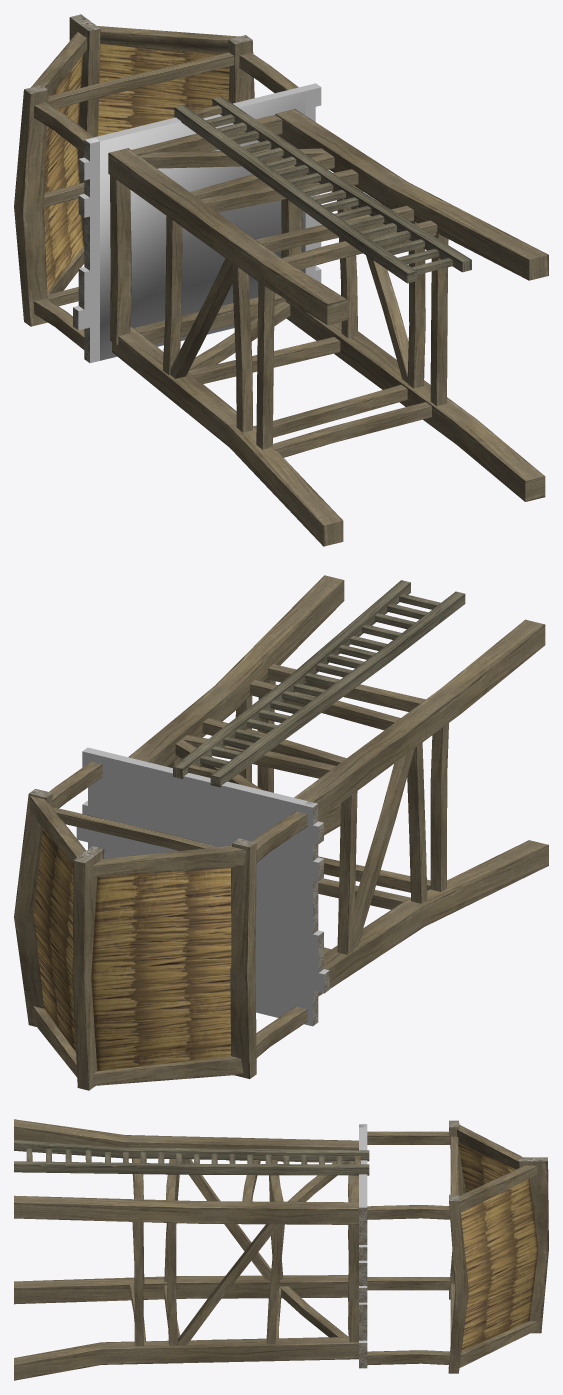
The model's file is Watch_Tower_A.fbx.
3 views of the same model, one above another, from view 1: azimuth 30°, elevation 25°; view 2: azimuth 150°, elevation 25°; view 3: azimuth 270°, elevation 25° (orthographic). The views are drawn at different scales.
Visible parts, largest first — view 1: Watch_Tower_A; view 2: Watch_Tower_A; view 3: Watch_Tower_A.
Boxes of the visible parts, x1,y1,x2,y2 form: Watch_Tower_A: (14,14,548,546); Watch_Tower_A: (14,575,548,1090); Watch_Tower_A: (14,1119,548,1380).
Bounding box in the file's own units: 6.7 × 6.62 × 16.83.
